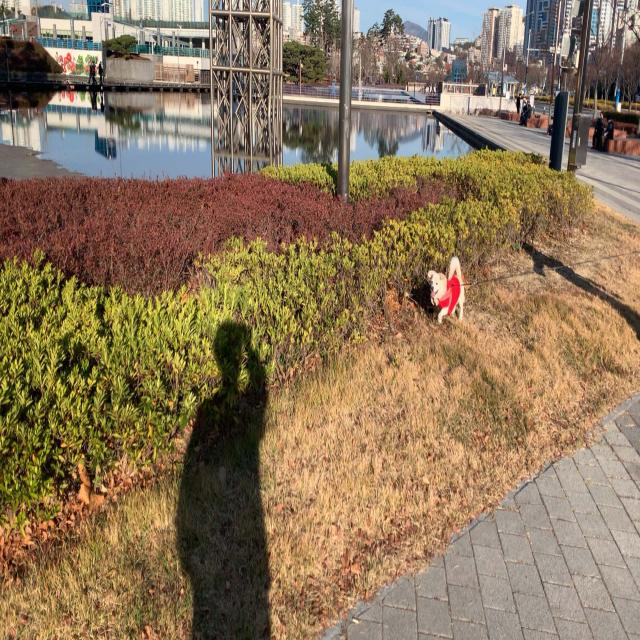Dog: (427, 255, 466, 325)
